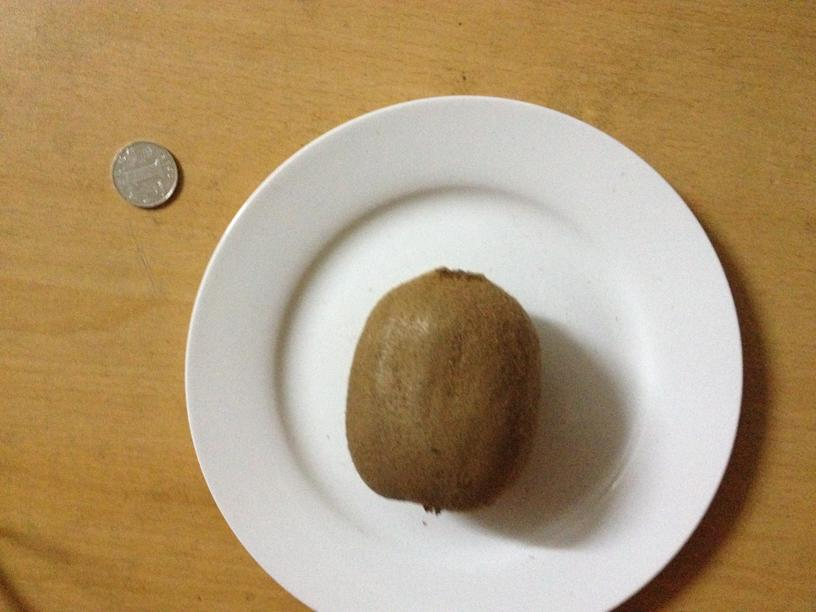coin: (112, 139, 179, 206)
qiwi: (345, 264, 538, 509)
